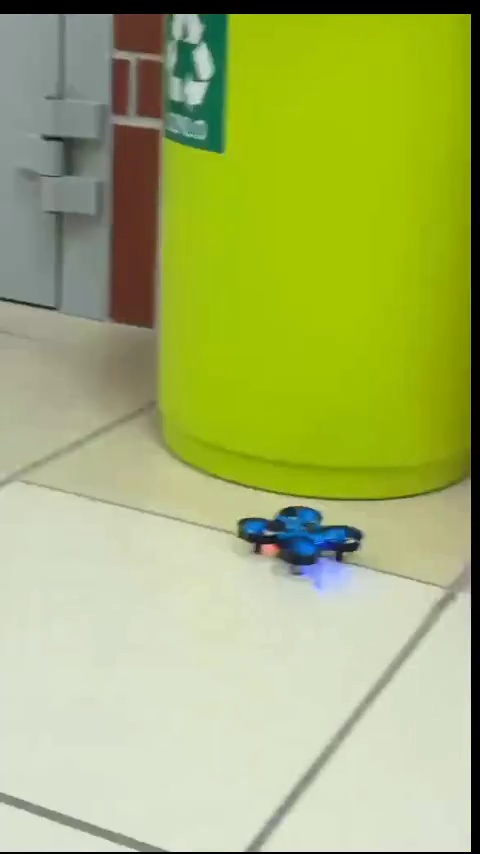drone: (229, 506, 366, 579)
